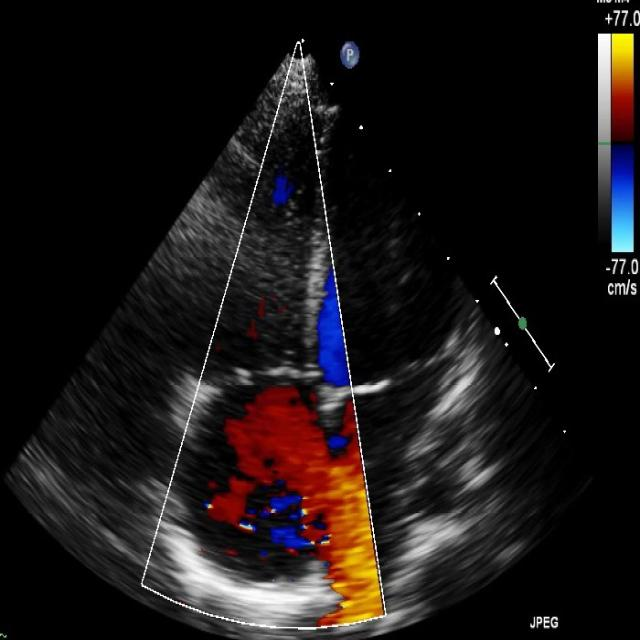ASDType2: (214, 383, 388, 623)
